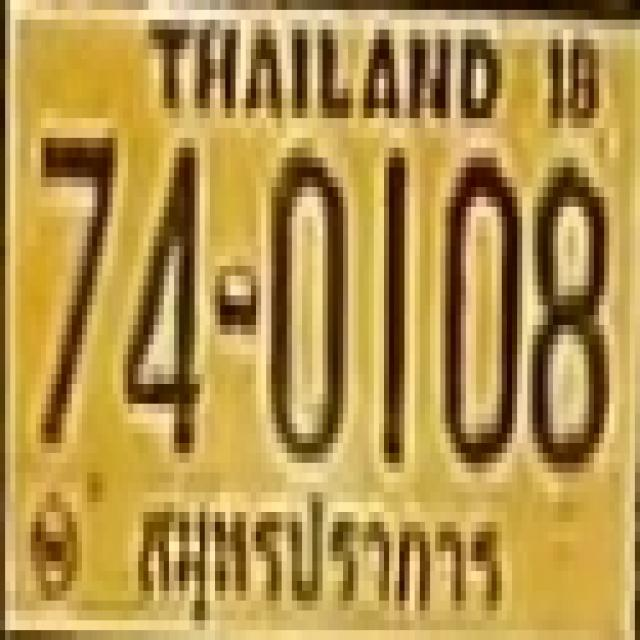0: (266, 138, 343, 453), (440, 148, 517, 462)
1: (379, 143, 404, 458)
4: (120, 138, 197, 443)
7: (36, 128, 112, 433)
8: (528, 158, 604, 462)
SPK: (123, 468, 505, 636)
